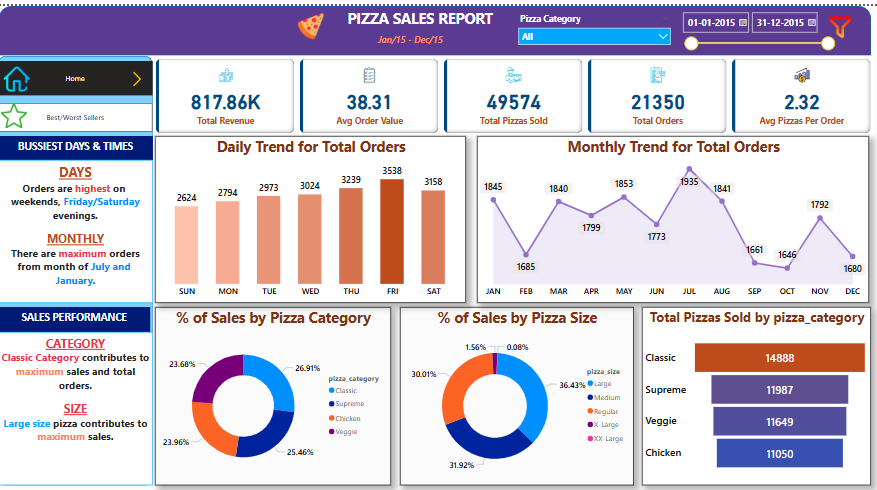

This screenshot's page, from the dashboard's own definition file:
{"tool":"powerbi","page":{"name":"Home","canvas":[1650,900],"ordinal":0},"visuals":[{"type":"cardVisual","fields":{"Data":["pizza_db sales.Total Revenue","pizza_db sales.Avg Order Value","pizza_db sales.Total Pizzas Sold","pizza_db sales.Total Orders","pizza_db sales.Avg Pizzas Per Order"]},"box":[307.1,91.6,1325.8,147.9],"z":0},{"type":"shape","box":[23.2,0,1603.7,91.2],"z":1000},{"type":"textbox","box":[597.9,0,401.7,68],"z":2000},{"type":"textbox","box":[676.7,46.3,207,41.7],"z":3000},{"type":"image","box":[523.7,7.7,146.8,60.3],"z":4000},{"type":"columnChart","title":"Daily Trend for Total Orders","fields":{"Category":["pizza_db sales.Order Day"],"Y":["pizza_db sales.Total Orders"]},"box":[311.4,239.5,572,307.1],"z":5000},{"type":"areaChart","title":"Monthly Trend for Total Orders","fields":{"Category":["pizza_db sales.Order Month"],"Y":["pizza_db sales.Total Orders"]},"box":[903.1,239.5,721.4,307.1],"z":6000},{"type":"donutChart","title":"% of Sales by Pizza Category","fields":{"Category":["pizza_db sales.pizza_category"],"Y":["pizza_db sales.Total Revenue"]},"box":[311.4,553.7,433.9,328.3],"z":7000},{"type":"donutChart","title":"% of Sales by Pizza Size","fields":{"Y":["pizza_db sales.Total Orders"],"Category":["pizza_db sales.pizza_size"]},"box":[762.2,553.7,429.7,328.3],"z":8000},{"type":"funnel","fields":{"Category":["pizza_db sales.pizza_category"],"Y":["pizza_db sales.Total Pizzas Sold"]},"box":[1206,553.7,421.3,328.3],"z":9000},{"type":"shape","box":[22.5,91.6,284.6,790.4],"z":10000},{"type":"textbox","box":[22.5,239.5,284.6,43.7],"z":11000},{"type":"textbox","box":[22.5,283.2,284.6,263.5],"z":12000},{"type":"textbox","box":[22.5,553.7,280.4,46.5],"z":13000},{"type":"textbox","box":[22.5,600.2,284.6,281.8],"z":14000},{"type":"slicer","fields":{"Values":["pizza_db sales.pizza_category"]},"box":[970.2,7.7,299.7,69.5],"z":15000},{"type":"slicer","fields":{"Values":["pizza_db sales.order_date"]},"box":[1269.9,1.5,301.3,91.2],"z":16000},{"type":"pageNavigator","box":[22.5,101.4,284.6,63.4],"z":16001},{"type":"pageNavigator","box":[22.5,177.5,284.6,53.5],"z":16002},{"type":"image","box":[248,115.5,59.2,36.6],"z":16003},{"type":"image","box":[26.8,98.6,57.8,70.4],"z":16004},{"type":"image","box":[18.3,173.3,66.2,57.8],"z":16005},{"type":"image","box":[1537.7,0,67.3,78],"z":16006}]}

Visuals, with their boxes in screenshot pixels (x1, y1, x2, y2), scaled from the page's 1650x900 canvas onto the 877x490 screenshot:
cardVisual - pizza_db sales.Total Revenue x pizza_db sales.Avg Order Value: left=163, top=50, right=868, bottom=130
shape: left=12, top=0, right=865, bottom=50
textbox: left=318, top=0, right=531, bottom=37
textbox: left=360, top=25, right=470, bottom=48
image: left=278, top=4, right=356, bottom=37
"Daily Trend for Total Orders" columnChart: left=166, top=130, right=470, bottom=298
"Monthly Trend for Total Orders" areaChart: left=480, top=130, right=863, bottom=298
"% of Sales by Pizza Category" donutChart: left=166, top=301, right=396, bottom=480
"% of Sales by Pizza Size" donutChart: left=405, top=301, right=634, bottom=480
funnel - pizza_db sales.pizza_category x pizza_db sales.Total Pizzas Sold: left=641, top=301, right=865, bottom=480
shape: left=12, top=50, right=163, bottom=480
textbox: left=12, top=130, right=163, bottom=154
textbox: left=12, top=154, right=163, bottom=298
textbox: left=12, top=301, right=161, bottom=327
textbox: left=12, top=327, right=163, bottom=480
slicer - pizza_db sales.pizza_category: left=516, top=4, right=675, bottom=42
slicer - pizza_db sales.order_date: left=675, top=1, right=835, bottom=50
pageNavigator: left=12, top=55, right=163, bottom=90
pageNavigator: left=12, top=97, right=163, bottom=126
image: left=132, top=63, right=163, bottom=83
image: left=14, top=54, right=45, bottom=92
image: left=10, top=94, right=45, bottom=126
image: left=817, top=0, right=853, bottom=42
